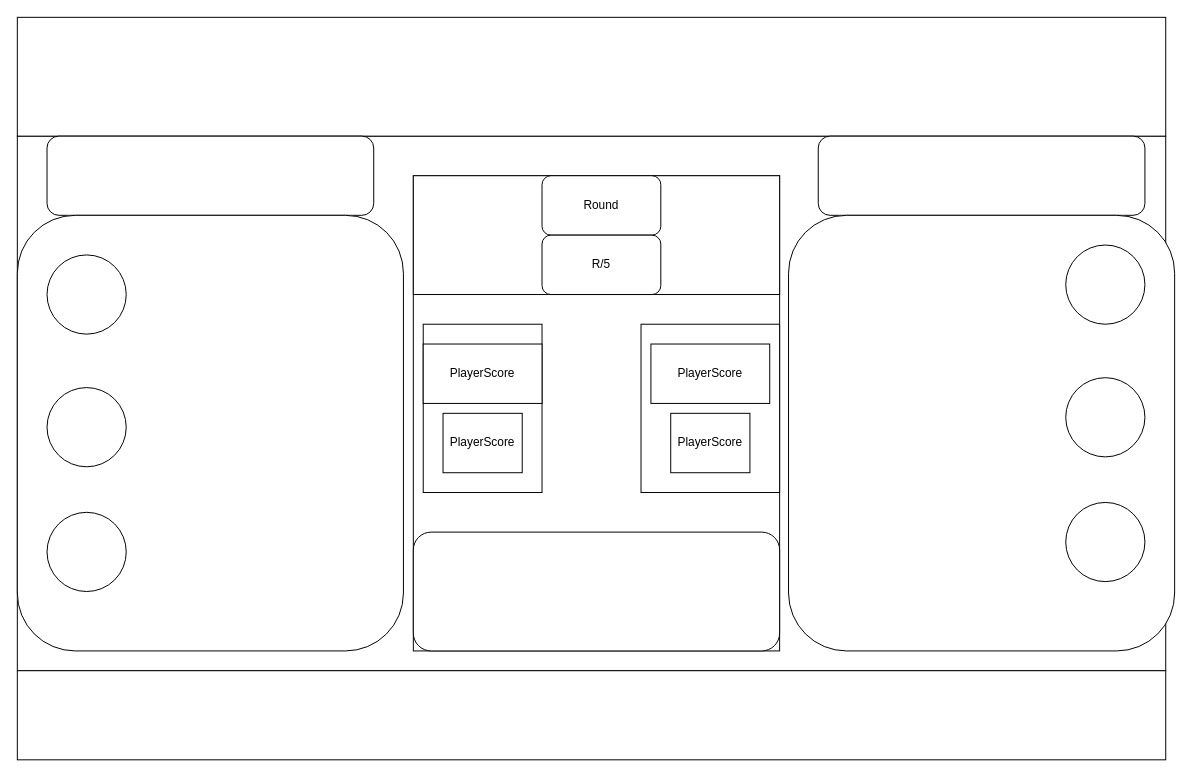
Some shapes in this 1192 by 777 pixel diagram are drawn without their labels. Each missing label, with the box of its shape:
Comments: (412, 531, 780, 651)
Footer: (16, 670, 1166, 760)
HEADER/TITLE: (16, 16, 1166, 136)
